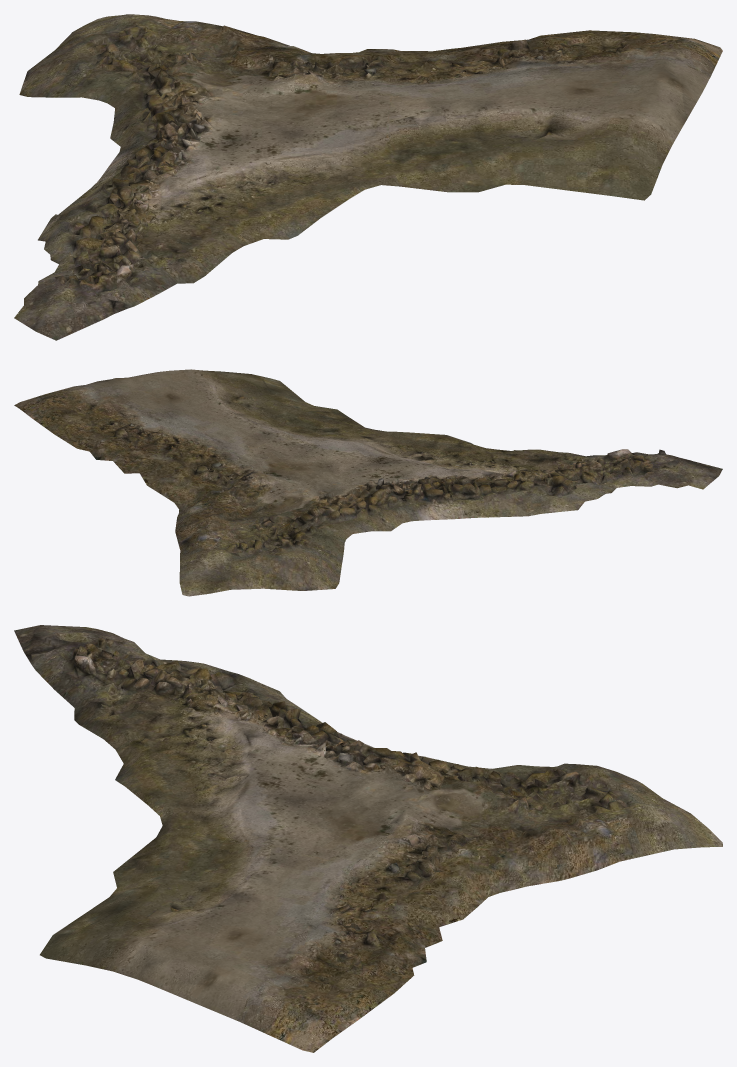
Rendered from reef-rock-01.glb.
3 views of the same model, one above another, from view 1: azimuth 30°, elevation 25°; view 2: azimuth 150°, elevation 25°; view 3: azimuth 270°, elevation 25° (orthographic). The views are drawn at different scales.
Parts seen in each view (by area): view 1: coast_rocks_01; view 2: coast_rocks_01; view 3: coast_rocks_01.
Boxes of the visible parts, x1,y1,x2,y2 form: coast_rocks_01: (14, 14, 722, 340); coast_rocks_01: (14, 369, 722, 596); coast_rocks_01: (14, 625, 722, 1052).
Size of the model in its own units: 59.34 by 3.29 by 42.49.
1 material, 1 textured.
